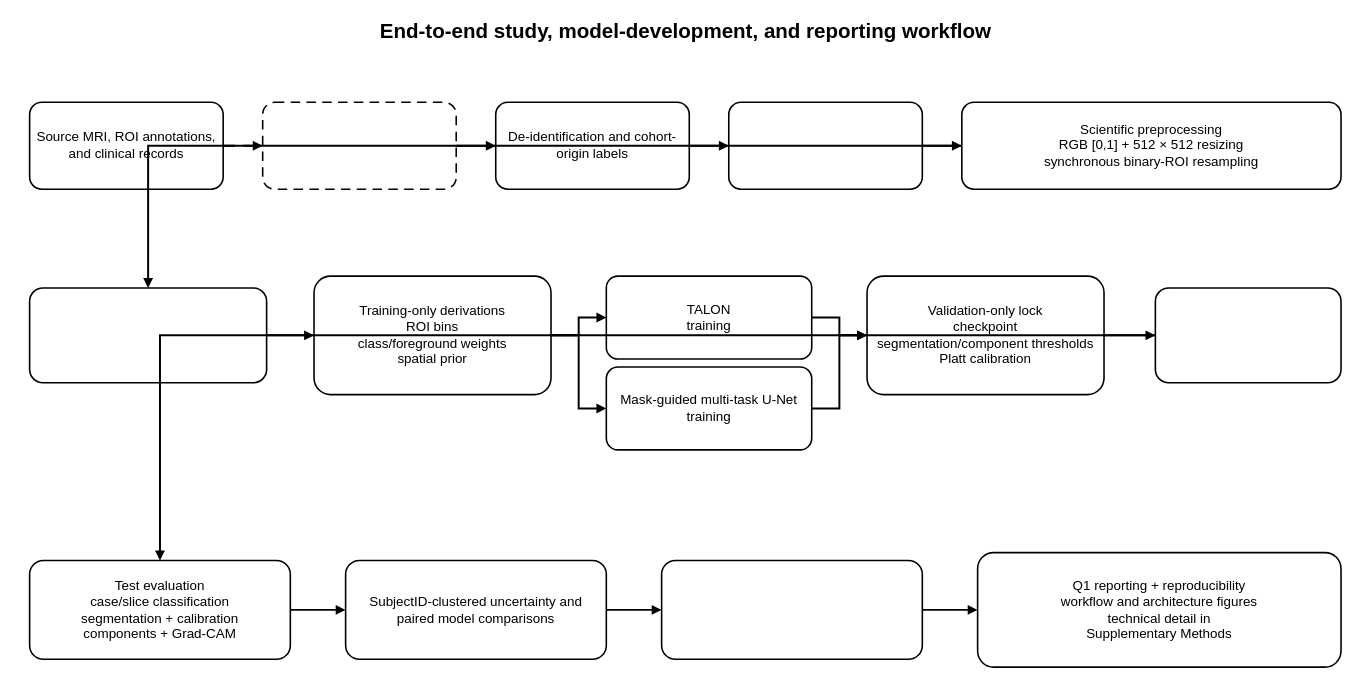
Image size: 1370x681. Some labels were removed from this diagram. Here are the shapes that lost their labels. From the top down, the box of each, then its label:
(261, 101, 457, 190): Participant-flow and source-record verification
(728, 101, 923, 190): Analysis units SubjectID cluster CaseID report
(28, 287, 267, 383): Repeated stratified subject-grouped holdouts Seeds 42, 123, 2026, 27182, 31415
(1154, 287, 1341, 383): Single locked-test access per model and seed
(660, 559, 923, 660): Per-seed estimates mean, SD, and range across repeats
